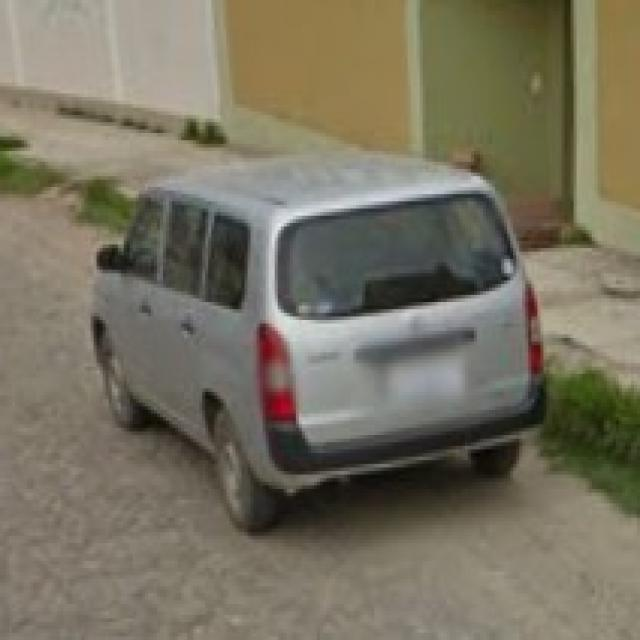car: (90, 149, 546, 532)
